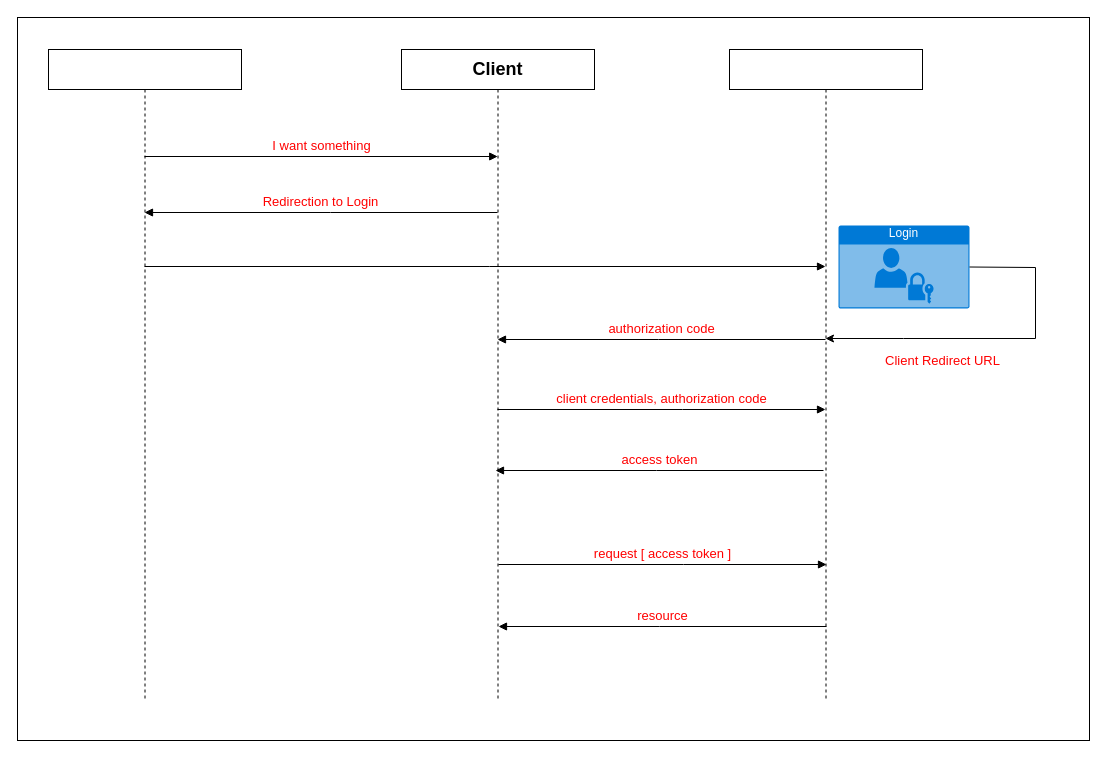
The diagram is 1107 pixels wide and 758 high, and some of its shapes have lost their labels. The shapes that lost their labels are listed below. From the top down, each one's box as (x1, y1, x2, y2) in pixels, then its label:
(48, 48, 242, 700): User
(728, 48, 922, 700): Server
